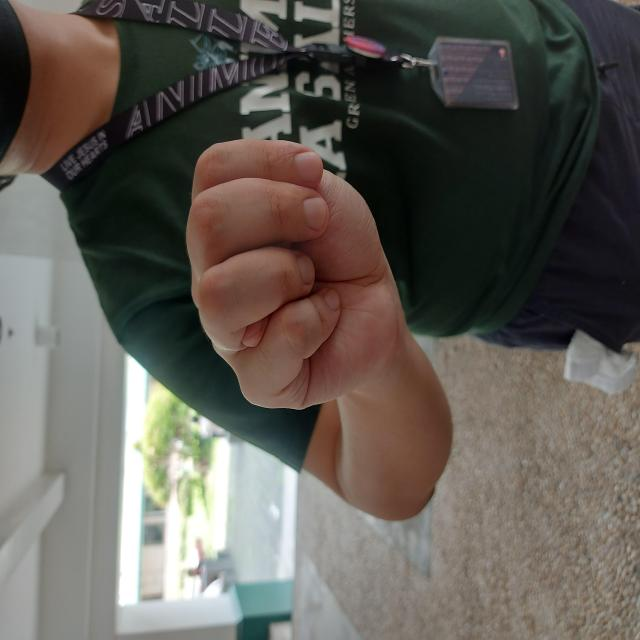M: (231, 186, 504, 400)
